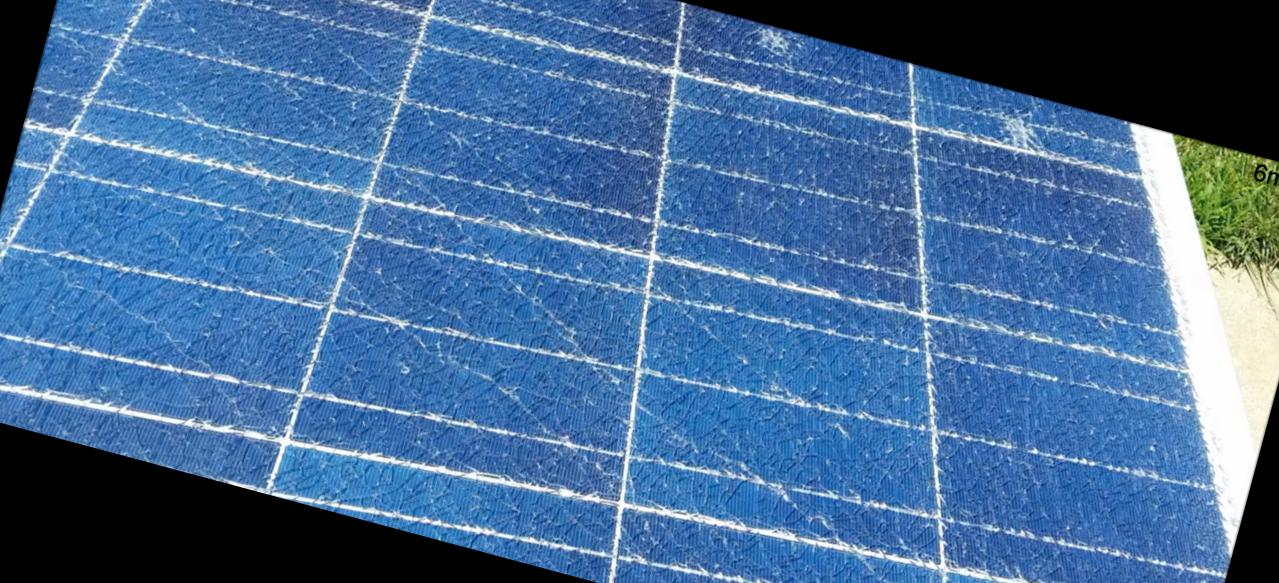Crack: (948, 82, 1072, 182), (726, 16, 820, 76)
